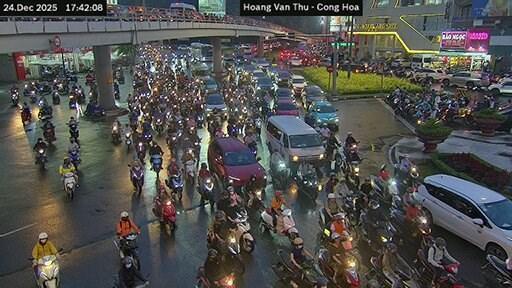motorbike: (272, 248, 320, 286), (390, 205, 432, 247), (314, 247, 359, 286), (208, 232, 245, 274), (359, 211, 396, 252), (259, 207, 297, 241), (480, 253, 511, 287), (233, 207, 253, 252), (339, 216, 358, 262), (114, 234, 138, 269), (370, 175, 399, 202), (365, 255, 390, 286), (413, 248, 434, 283), (435, 262, 463, 287), (153, 198, 175, 229), (34, 256, 56, 287), (297, 171, 320, 198), (342, 190, 358, 225), (240, 185, 262, 210), (393, 163, 418, 184), (269, 161, 288, 188), (342, 157, 359, 187), (198, 176, 214, 206), (396, 266, 418, 287), (329, 144, 345, 171), (166, 171, 181, 199), (128, 165, 143, 193), (195, 266, 212, 287), (320, 217, 332, 244), (342, 142, 359, 160), (150, 153, 162, 178), (83, 103, 105, 116), (64, 172, 74, 198), (166, 133, 178, 153), (217, 273, 234, 287), (185, 158, 195, 181), (35, 148, 45, 169), (42, 127, 54, 144), (70, 148, 80, 167), (135, 142, 144, 162), (39, 104, 51, 118), (112, 126, 121, 144), (154, 117, 163, 135), (67, 90, 76, 108), (21, 108, 31, 124), (69, 122, 77, 142), (22, 81, 34, 94), (57, 82, 69, 93), (114, 274, 124, 287), (10, 90, 18, 106), (195, 112, 204, 126), (124, 131, 131, 149), (143, 130, 152, 144), (28, 90, 35, 103), (249, 142, 256, 154), (131, 282, 147, 287), (51, 95, 60, 103), (114, 89, 120, 99), (144, 273, 149, 277), (320, 208, 323, 214), (51, 90, 56, 93), (28, 257, 32, 259)
